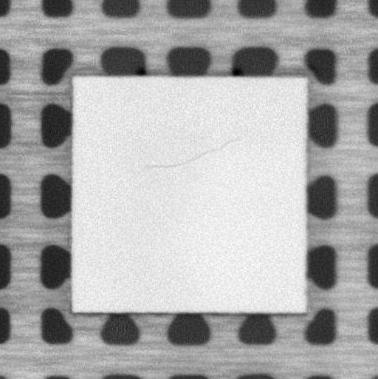DIE_CRACK: (148, 140, 243, 168)
